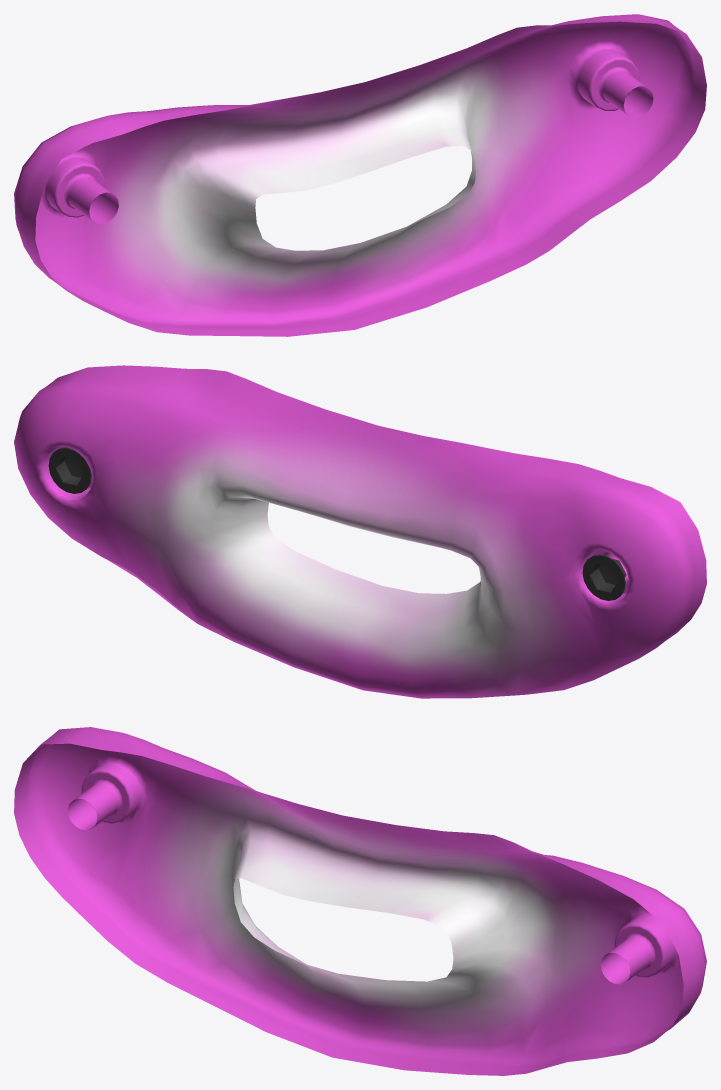
Rendered from Hold4.obj.
The picture shows the model from 3 angles, top to bottom: view 1: azimuth 30°, elevation 25°; view 2: azimuth 150°, elevation 25°; view 3: azimuth 330°, elevation 25°; orthographic projection.
Visible parts, largest first — view 1: Hold4; view 2: Hold4, Hold4.001; view 3: Hold4.
Boxes of the visible parts, bbox=[...] form: Hold4: bbox=[14, 14, 706, 336]; Hold4: bbox=[14, 365, 706, 698]; Hold4.001: bbox=[48, 447, 626, 600]; Hold4: bbox=[14, 727, 706, 1075].
Bounding box in the file's own units: 0.3879 × 0.1452 × 0.0414.
